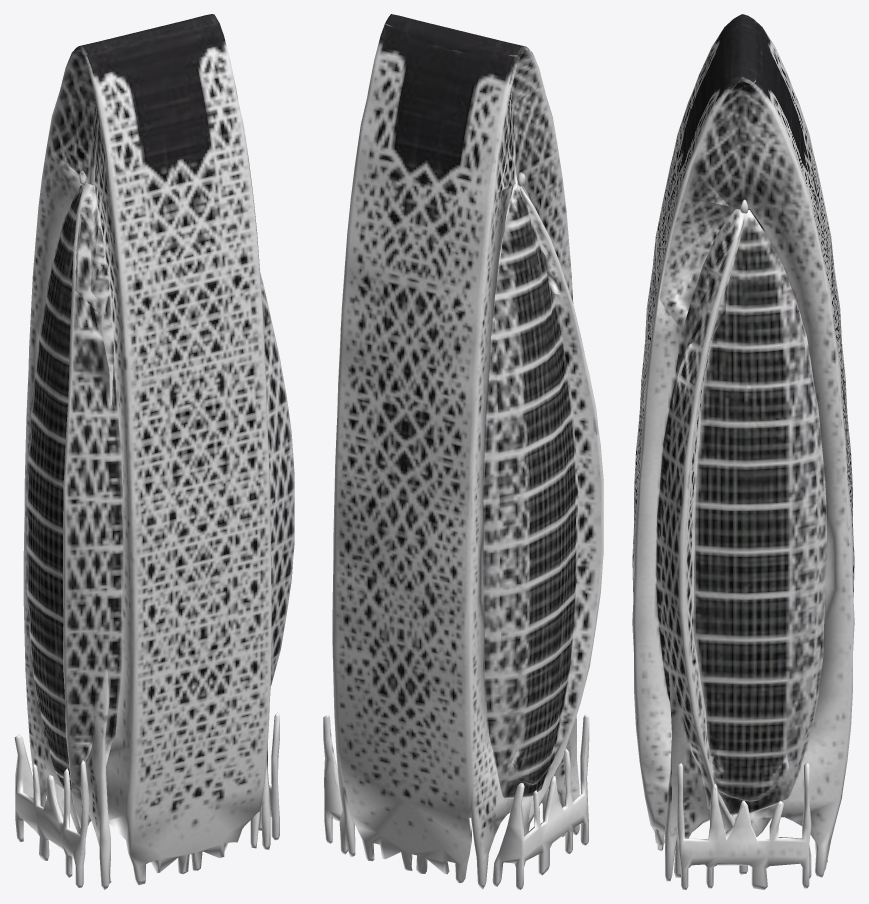
Rendered from cocoon_tower.glb.
3 views of the same model, side by side, from view 1: azimuth 30°, elevation 25°; view 2: azimuth 150°, elevation 25°; view 3: azimuth 270°, elevation 25° (orthographic).
Bounding box in the file's own units: 0.5675 × 1.91 × 0.4814.
1 material, 1 textured.
